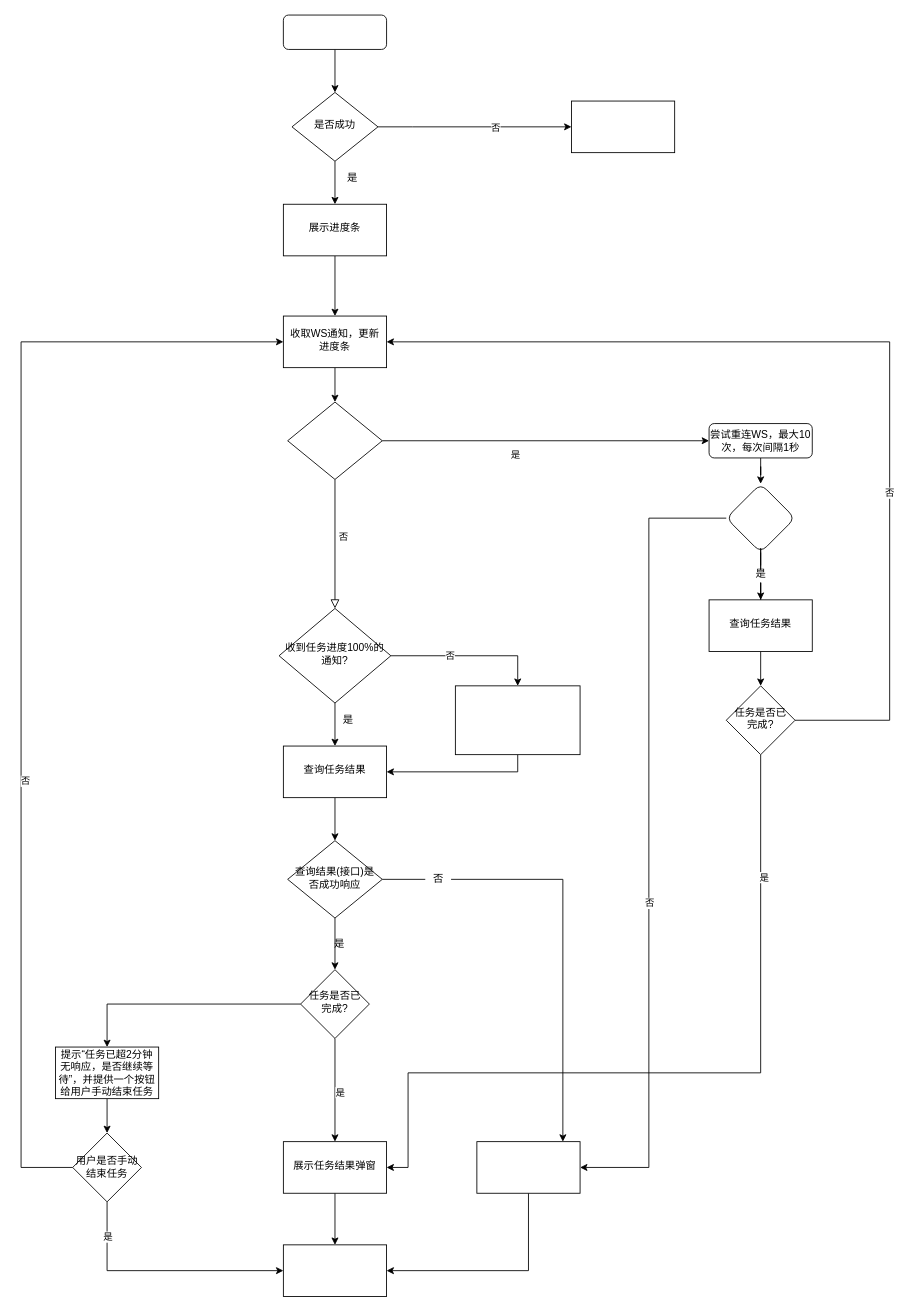
Image size: 912x1312. Some labels were removed from this diagram. The shapes that lost their labels are listed below. From the top down, each one's centre as x and y in pixels, then its label:
At point 335,31: "提交任务".
At point 623,126: "提示提交失败原因".
At point 334,440: "WS是否发生断开？".
At point 760,518: "是否重连成功？".
At point 517,720: "2分钟未收到任何ws通知，自动触发查询任务结果".
At point 528,1167: "提示“系统异常，请联系在线客服”".
At point 335,1270: "关闭进度条，刷新任务列表".
